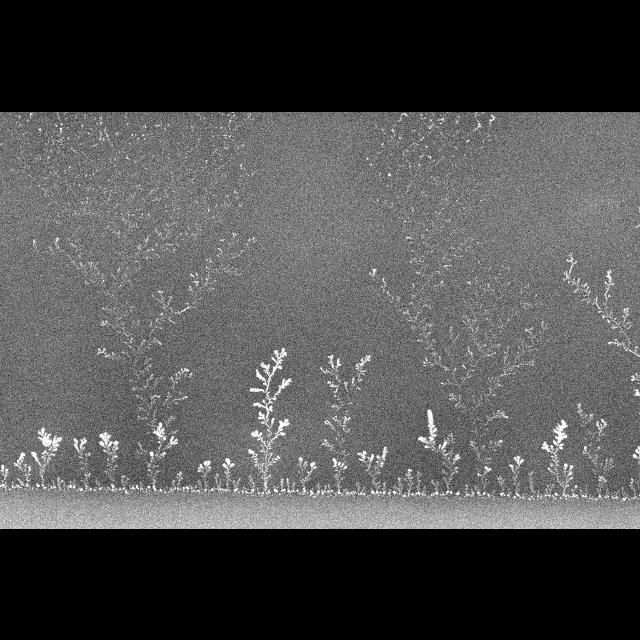dendrites: (248, 347, 292, 494), (541, 419, 579, 499), (418, 408, 460, 466), (482, 357, 535, 396), (31, 426, 62, 489), (147, 408, 166, 490), (357, 446, 388, 494), (563, 252, 591, 303), (99, 431, 119, 488), (73, 437, 92, 490), (297, 456, 316, 492), (508, 455, 524, 497), (440, 369, 475, 387), (14, 451, 31, 487), (320, 353, 341, 382), (608, 338, 640, 356), (332, 457, 347, 495), (611, 320, 632, 346), (423, 351, 450, 371), (469, 440, 491, 464), (170, 367, 192, 389), (472, 336, 496, 356), (355, 353, 370, 381), (197, 460, 211, 490), (222, 457, 234, 490), (484, 409, 508, 425), (476, 465, 491, 490), (332, 413, 351, 432), (152, 290, 172, 308), (604, 269, 614, 300), (215, 264, 242, 274), (404, 468, 414, 495), (134, 363, 151, 378), (463, 317, 479, 332), (527, 470, 535, 500), (170, 470, 182, 490), (582, 444, 596, 461), (440, 477, 453, 495), (174, 302, 195, 313), (98, 347, 116, 359), (211, 472, 223, 490), (322, 438, 337, 452), (0, 464, 8, 489), (594, 475, 603, 497), (164, 435, 179, 448), (576, 401, 587, 418), (449, 392, 462, 406), (286, 477, 299, 491), (150, 320, 162, 335), (394, 476, 404, 493), (497, 474, 505, 495), (472, 395, 483, 410), (170, 395, 188, 404), (310, 483, 321, 497), (327, 380, 339, 392), (324, 419, 336, 431), (415, 470, 421, 494), (121, 473, 129, 491), (596, 419, 603, 439), (431, 478, 439, 495), (144, 372, 153, 387), (232, 477, 241, 492), (101, 319, 120, 326), (403, 309, 413, 322), (544, 483, 554, 496), (503, 344, 509, 364), (165, 414, 175, 426), (622, 307, 630, 322), (183, 484, 200, 491), (467, 357, 480, 366), (57, 475, 65, 489), (163, 390, 171, 404), (203, 276, 213, 287), (492, 439, 503, 449), (321, 484, 331, 495), (592, 296, 601, 308), (248, 474, 254, 492), (380, 277, 387, 292), (152, 377, 162, 387), (488, 114, 495, 127), (130, 484, 143, 491), (143, 233, 150, 246), (191, 272, 198, 285), (397, 112, 407, 121), (151, 394, 160, 404), (67, 478, 76, 488), (473, 118, 481, 129), (11, 479, 22, 487), (138, 441, 146, 452), (138, 338, 146, 349), (463, 483, 470, 495), (71, 145, 79, 155), (436, 155, 446, 163), (48, 479, 56, 489), (76, 261, 87, 268), (404, 182, 411, 193), (474, 484, 481, 495), (221, 199, 230, 207), (229, 114, 238, 122), (54, 236, 60, 248), (474, 111, 486, 117), (116, 329, 128, 335), (125, 304, 135, 311), (155, 227, 162, 237), (138, 405, 148, 412), (281, 477, 286, 491), (96, 479, 103, 489), (603, 311, 613, 318), (424, 322, 432, 330), (368, 268, 376, 276), (436, 114, 445, 121), (331, 403, 340, 410), (221, 132, 233, 137), (102, 305, 112, 311), (251, 168, 259, 175), (449, 324, 453, 338), (410, 300, 417, 308), (580, 488, 587, 496), (103, 125, 108, 136), (425, 122, 434, 128), (587, 412, 593, 421), (451, 466, 457, 475), (234, 188, 239, 198), (468, 345, 473, 355), (133, 351, 138, 361), (136, 182, 143, 189), (247, 114, 254, 121), (525, 301, 532, 308), (413, 311, 420, 318), (166, 306, 173, 313), (223, 140, 229, 148), (4, 200, 8, 212), (42, 186, 48, 194), (72, 209, 80, 215), (424, 331, 430, 339), (442, 264, 450, 270), (382, 481, 386, 493), (422, 303, 431, 308), (137, 414, 148, 418), (83, 211, 94, 215), (17, 155, 23, 162), (525, 327, 532, 333), (136, 449, 143, 455), (155, 338, 162, 344), (168, 316, 175, 322), (217, 246, 222, 254), (35, 153, 43, 158), (462, 297, 470, 302), (528, 347, 538, 351), (448, 432, 453, 440), (346, 490, 356, 494), (136, 394, 144, 399), (128, 336, 132, 346), (246, 237, 251, 245), (205, 263, 211, 269), (216, 114, 225, 118), (189, 176, 195, 182), (486, 282, 490, 291), (410, 141, 419, 145), (460, 238, 466, 244), (507, 487, 511, 496), (441, 468, 447, 474), (145, 247, 154, 251), (232, 231, 238, 237), (206, 257, 213, 262), (178, 184, 185, 189), (29, 111, 34, 118), (454, 332, 459, 339), (427, 343, 434, 348), (462, 362, 467, 369), (528, 340, 533, 347), (94, 260, 99, 267), (70, 242, 77, 247), (206, 205, 210, 213), (99, 136, 105, 141), (49, 245, 55, 250), (520, 338, 523, 348), (352, 376, 355, 386), (344, 380, 347, 390), (133, 386, 143, 389), (88, 259, 93, 265), (60, 135, 64, 142), (473, 276, 477, 283), (441, 254, 445, 261), (488, 439, 492, 446), (470, 488, 474, 495), (164, 187, 168, 194), (137, 242, 141, 249), (170, 429, 177, 433), (165, 231, 170, 236), (227, 240, 232, 245), (198, 224, 203, 229), (213, 147, 218, 152), (429, 128, 434, 133), (466, 279, 471, 284), (421, 489, 426, 494), (273, 485, 278, 490), (156, 252, 161, 257), (146, 357, 151, 362), (188, 284, 193, 289), (191, 232, 197, 236), (201, 163, 207, 167), (124, 114, 128, 120), (107, 137, 111, 143), (91, 142, 97, 146), (57, 111, 60, 119), (47, 154, 50, 162), (89, 276, 95, 280), (84, 279, 90, 283), (97, 288, 103, 292), (116, 315, 122, 319), (540, 320, 544, 326), (431, 337, 434, 345), (435, 210, 441, 214), (381, 141, 385, 147), (440, 278, 444, 284), (356, 481, 360, 487), (241, 486, 245, 492), (146, 484, 150, 490), (252, 235, 256, 241), (78, 130, 81, 137), (24, 163, 31, 166), (406, 235, 413, 238), (358, 491, 365, 494), (76, 487, 83, 490), (88, 185, 92, 190), (220, 237, 225, 241), (239, 200, 243, 205), (195, 112, 200, 116), (62, 111, 67, 115), (533, 293, 537, 298), (452, 367, 456, 372), (455, 143, 459, 148), (411, 324, 416, 328), (396, 294, 400, 299), (461, 312, 466, 316), (582, 282, 587, 286), (596, 444, 600, 449), (537, 494, 542, 498), (266, 488, 270, 493), (122, 350, 127, 354), (156, 317, 160, 322), (455, 490, 460, 494), (607, 318, 612, 322), (240, 162, 243, 168), (127, 153, 130, 159), (42, 176, 48, 179), (101, 272, 104, 278), (410, 205, 413, 211), (421, 190, 424, 196), (392, 127, 395, 133), (420, 317, 426, 320), (473, 418, 479, 421), (471, 428, 477, 431), (103, 225, 109, 228), (240, 248, 244, 252), (159, 137, 163, 141), (71, 260, 75, 264), (412, 293, 416, 297), (447, 217, 451, 221), (419, 154, 423, 158), (427, 153, 431, 157), (387, 290, 391, 294), (480, 431, 484, 435), (552, 494, 556, 498), (167, 403, 171, 407), (171, 241, 176, 244), (215, 202, 218, 207), (238, 119, 243, 122), (132, 132, 137, 135), (56, 220, 61, 223), (506, 280, 509, 285), (424, 345, 429, 348), (410, 248, 415, 251), (445, 195, 448, 200), (412, 282, 415, 287), (355, 385, 360, 388), (347, 401, 352, 404), (403, 491, 406, 496), (328, 482, 331, 487), (117, 229, 120, 234), (78, 224, 83, 227), (60, 126, 62, 133), (485, 316, 492, 318), (453, 254, 460, 256), (494, 343, 501, 345), (170, 214, 173, 218), (175, 242, 179, 245), (167, 241, 171, 244), (229, 255, 235, 257), (211, 214, 215, 217), (247, 171, 250, 175), (241, 142, 244, 146), (172, 188, 176, 191), (186, 170, 190, 173), (205, 158, 208, 162), (167, 121, 170, 125), (129, 141, 133, 144), (134, 158, 137, 162), (141, 132, 145, 135), (115, 131, 119, 134), (99, 115, 103, 118), (18, 114, 21, 118), (39, 127, 42, 131), (51, 163, 54, 167), (67, 254, 71, 257), (33, 238, 35, 244), (117, 267, 120, 271), (102, 278, 105, 282), (501, 262, 504, 266), (482, 286, 485, 290), (435, 174, 438, 178), (431, 158, 435, 161), (455, 119, 458, 123), (436, 270, 440, 273), (481, 444, 485, 447), (342, 437, 345, 441), (554, 492, 558, 495), (487, 492, 490, 496), (441, 460, 445, 463), (392, 490, 396, 493), (36, 482, 40, 485), (159, 487, 162, 491), (140, 481, 143, 485), (150, 438, 154, 441), (147, 430, 151, 433), (161, 311, 164, 315), (217, 252, 220, 256), (81, 200, 84, 204), (86, 196, 88, 202), (608, 293, 611, 297), (613, 317, 616, 321), (155, 124, 160, 126), (100, 119, 102, 124), (527, 282, 529, 287), (417, 338, 422, 340), (409, 240, 414, 242), (409, 161, 411, 166), (123, 339, 128, 341), (105, 200, 108, 203), (103, 186, 106, 189), (103, 190, 106, 193), (99, 184, 102, 187), (237, 252, 240, 255), (187, 226, 190, 229), (191, 124, 194, 127), (100, 131, 103, 134), (22, 132, 25, 135), (4, 203, 7, 206), (60, 122, 63, 125), (48, 201, 51, 204), (78, 254, 81, 257), (122, 325, 125, 328), (418, 299, 421, 302), (431, 247, 434, 250), (410, 259, 413, 262), (418, 258, 421, 261), (431, 220, 434, 223), (403, 219, 406, 222), (405, 147, 408, 150), (487, 133, 490, 136), (466, 138, 469, 141), (467, 131, 470, 134), (420, 114, 423, 117), (381, 127, 384, 130), (393, 123, 396, 126), (388, 172, 391, 175), (421, 234, 424, 237), (416, 270, 419, 273), (533, 334, 536, 337), (483, 342, 486, 345), (334, 393, 337, 396), (449, 448, 452, 451), (446, 435, 449, 438), (245, 489, 248, 492), (93, 487, 96, 490), (164, 489, 167, 492), (141, 211, 144, 214), (627, 321, 630, 324), (109, 192, 111, 196), (173, 245, 175, 249), (236, 237, 240, 239), (231, 137, 235, 139), (229, 125, 231, 129), (127, 120, 129, 124), (145, 123, 147, 127), (95, 115, 97, 119), (85, 114, 87, 118), (81, 122, 83, 126), (16, 170, 20, 172), (11, 167, 15, 169), (55, 122, 57, 126), (37, 184, 41, 186), (506, 265, 510, 267), (523, 302, 525, 306), (507, 315, 509, 319), (399, 135, 401, 139), (447, 257, 451, 259), (518, 344, 520, 348), (598, 310, 602, 312), (336, 398, 340, 400), (345, 453, 349, 455), (599, 417, 601, 421), (410, 492, 414, 494), (119, 485, 121, 489), (132, 212, 136, 214), (127, 210, 129, 214), (148, 211, 150, 215), (84, 205, 86, 209), (92, 171, 94, 174), (93, 186, 95, 189), (165, 203, 167, 206), (205, 188, 208, 190), (204, 194, 206, 197), (237, 145, 240, 147), (212, 143, 215, 145), (220, 125, 223, 127), (170, 170, 173, 172), (184, 154, 187, 156), (204, 116, 206, 119), (164, 126, 166, 129), (137, 135, 139, 138), (114, 156, 116, 159), (144, 135, 146, 138), (111, 142, 113, 145), (102, 141, 104, 144), (75, 133, 77, 136), (88, 131, 90, 134), (23, 168, 25, 171), (23, 154, 25, 157), (19, 123, 22, 125), (67, 136, 70, 138), (52, 142, 55, 144), (63, 151, 65, 154), (69, 164, 71, 167), (57, 162, 60, 164), (54, 171, 56, 174), (57, 173, 59, 176), (68, 201, 70, 204), (65, 208, 68, 210), (69, 212, 71, 215), (46, 250, 48, 253), (119, 283, 122, 285), (106, 311, 109, 313), (495, 275, 497, 278), (411, 295, 413, 298), (442, 206, 444, 209), (402, 153, 405, 155), (418, 163, 421, 165), (426, 144, 428, 147), (446, 114, 449, 116), (418, 132, 420, 135), (439, 121, 442, 123), (432, 114, 434, 117), (469, 332, 472, 334), (527, 335, 530, 337), (491, 375, 493, 378), (336, 437, 338, 440), (580, 422, 583, 424), (584, 436, 586, 439), (589, 492, 590, 498), (513, 495, 516, 497), (483, 491, 485, 494), (388, 491, 390, 494), (331, 489, 334, 491), (257, 490, 260, 492), (129, 224, 131, 227), (156, 187, 159, 189), (151, 188, 153, 191), (166, 222, 169, 224), (179, 390, 182, 392), (129, 378, 132, 380), (66, 262, 68, 265), (136, 258, 139, 260), (46, 130, 47, 135), (111, 189, 113, 191), (127, 171, 129, 173), (89, 173, 91, 175), (176, 234, 178, 236), (235, 126, 237, 128), (200, 117, 202, 119), (142, 124, 144, 126), (161, 119, 162, 123), (16, 120, 18, 122), (27, 118, 29, 120), (75, 175, 77, 177), (57, 169, 59, 171), (79, 159, 80, 163), (64, 168, 66, 170), (49, 214, 51, 216), (77, 247, 79, 249), (43, 250, 45, 252), (122, 321, 126, 322), (429, 236, 431, 238), (422, 253, 424, 255), (413, 257, 415, 259), (441, 201, 443, 203), (379, 171, 381, 173), (377, 197, 378, 201), (409, 169, 411, 171), (403, 149, 405, 151), (420, 138, 422, 140), (430, 117, 432, 119), (424, 115, 426, 117), (375, 121, 377, 123), (366, 156, 368, 158), (426, 227, 428, 229), (416, 281, 418, 283), (451, 245, 453, 247), (476, 241, 478, 243), (471, 237, 473, 239), (337, 433, 339, 435), (343, 449, 345, 451), (560, 496, 562, 498), (256, 486, 258, 488), (9, 487, 11, 489), (28, 492, 30, 494), (186, 230, 187, 234), (196, 271, 197, 275), (124, 272, 126, 274), (96, 269, 98, 271), (67, 236, 69, 238), (606, 305, 608, 307), (172, 221, 175, 222), (174, 206, 175, 209), (181, 237, 184, 238), (195, 221, 196, 224), (213, 193, 216, 194), (227, 114, 230, 115), (126, 111, 127, 114), (75, 115, 78, 116), (43, 169, 46, 170), (46, 219, 49, 220), (521, 290, 522, 293), (440, 225, 443, 226), (441, 130, 442, 133), (371, 161, 372, 164), (392, 294, 393, 297), (588, 443, 591, 444), (424, 485, 425, 488), (180, 231, 181, 234), (177, 206, 179, 207), (166, 247, 168, 248), (168, 156, 170, 157), (147, 132, 149, 133), (58, 139, 59, 141), (51, 148, 52, 150), (66, 183, 68, 184), (69, 169, 71, 170), (73, 172, 74, 174), (37, 180, 38, 182), (50, 170, 51, 172), (69, 209, 71, 210), (80, 251, 81, 253), (35, 244, 36, 246), (419, 332, 421, 333), (422, 339, 423, 341), (442, 198, 444, 199), (423, 136, 424, 138), (392, 201, 393, 203), (428, 298, 430, 299), (489, 266, 491, 267), (465, 390, 466, 392), (279, 492, 280, 494), (136, 222, 137, 224), (121, 213, 123, 214), (150, 191, 151, 193), (156, 242, 157, 244), (126, 278, 127, 280), (98, 272, 99, 274), (75, 239, 76, 241), (391, 135, 392, 136), (123, 273, 123, 276)
